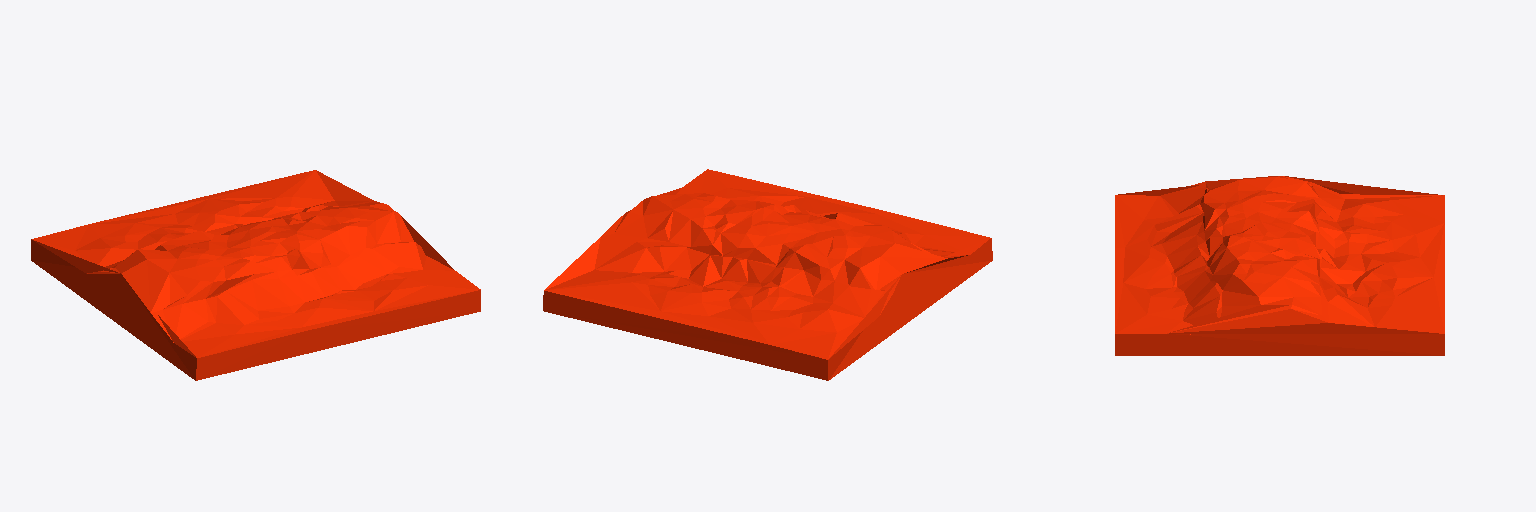
File: bedeng_tanah.obj
3 renders of one model, left to right at view 1: azimuth 30°, elevation 25°; view 2: azimuth 150°, elevation 25°; view 3: azimuth 270°, elevation 25°, orthographic.
Visible parts, largest first — view 1: PP_Meadow_Path_05_Scene.1042; view 2: PP_Meadow_Path_05_Scene.1042; view 3: PP_Meadow_Path_05_Scene.1042.
Boxes of the visible parts, x1,y1,x2,y2 form: PP_Meadow_Path_05_Scene.1042: [31, 170, 480, 380]; PP_Meadow_Path_05_Scene.1042: [543, 169, 992, 380]; PP_Meadow_Path_05_Scene.1042: [1115, 176, 1444, 355].
Size of the model in its own units: 1 by 0.2 by 1.